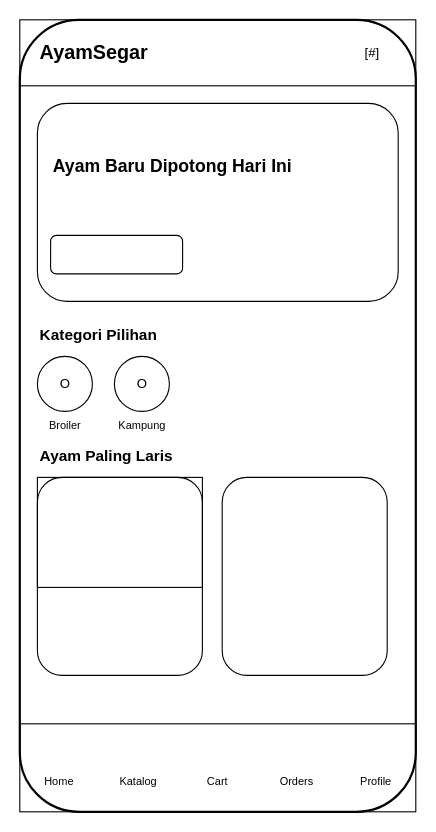
Image size: 436x832. Some labels were removed from this diagram. Each missing label, with the centre of its shape:
"[Img]" belongs at (x=119, y=531).
"Order Sekarang" belongs at (x=116, y=254).
